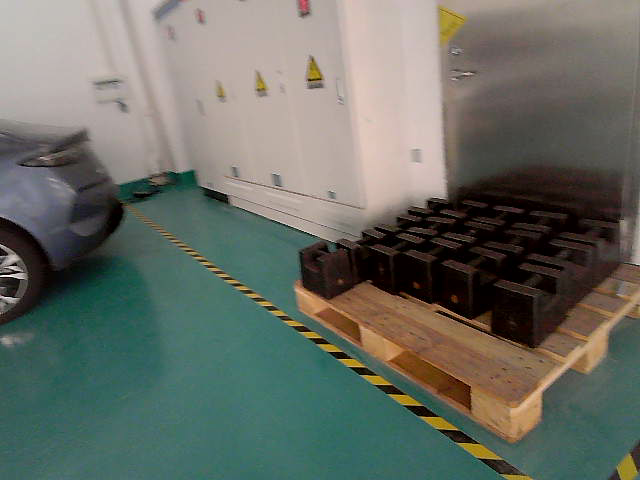block: (468, 385, 542, 447), (583, 330, 613, 382), (361, 323, 389, 364), (291, 289, 318, 315)
front: (509, 294, 639, 447)
hole pallet: (540, 350, 588, 419), (606, 297, 639, 353)
